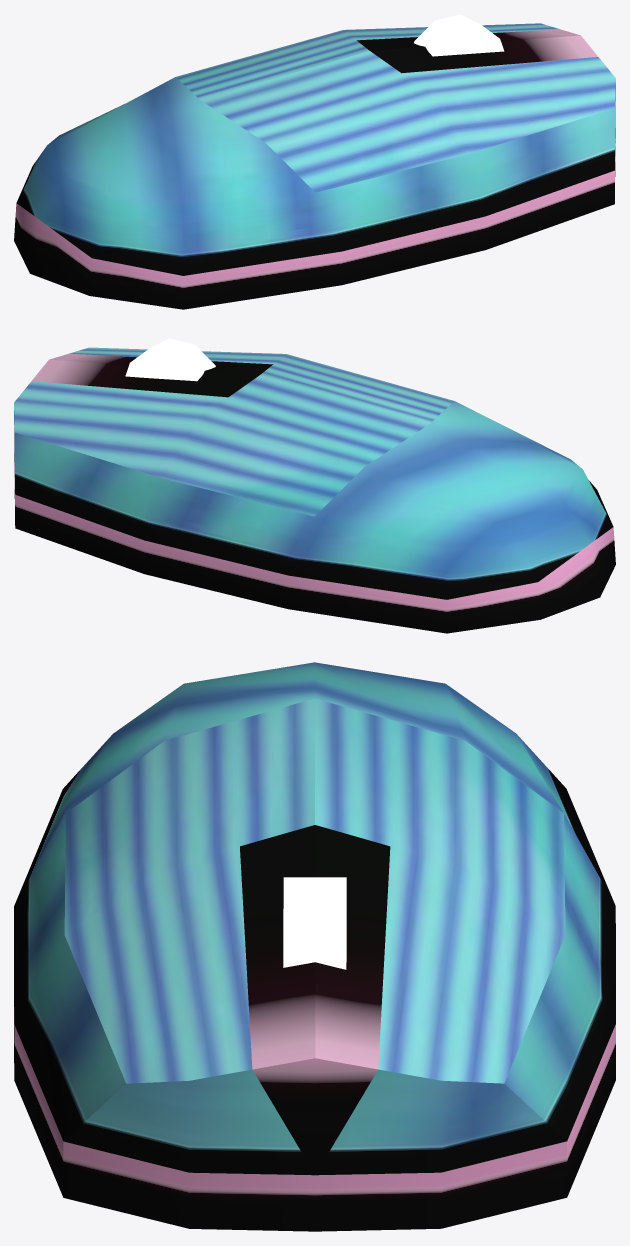
Rendered from pm-mouse-retro.glb.
3 views of the same model, one above another, from view 1: azimuth 30°, elevation 25°; view 2: azimuth 150°, elevation 25°; view 3: azimuth 270°, elevation 25° (orthographic). The views are drawn at different scales.
Visible parts, largest first — view 1: Mouse_Retro; view 2: Mouse_Retro; view 3: Mouse_Retro.
Part boxes in pixels (<box>): Mouse_Retro: <box>14,14,615,309</box>; Mouse_Retro: <box>14,338,615,633</box>; Mouse_Retro: <box>14,662,615,1231</box>.
Bounding box in the file's own units: 1.21 × 0.3043 × 0.6841.
Materials: 2 (2 with a texture image).
